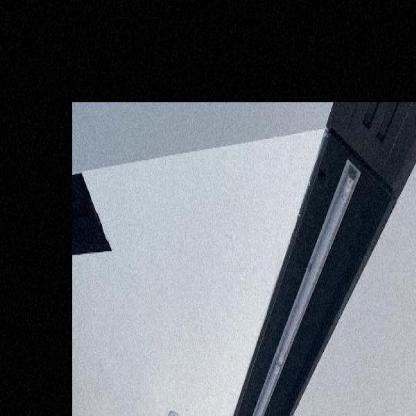light_off: (204, 148, 371, 414)
